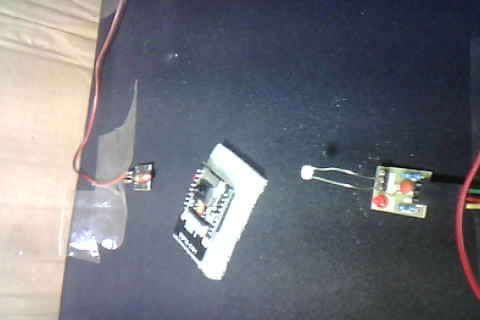esp32: (168, 143, 262, 274)
